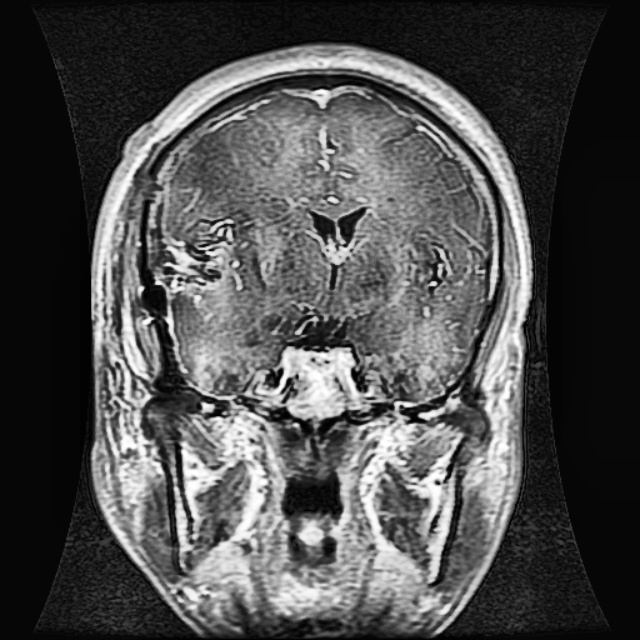Meningioma: (152, 213, 240, 309)
